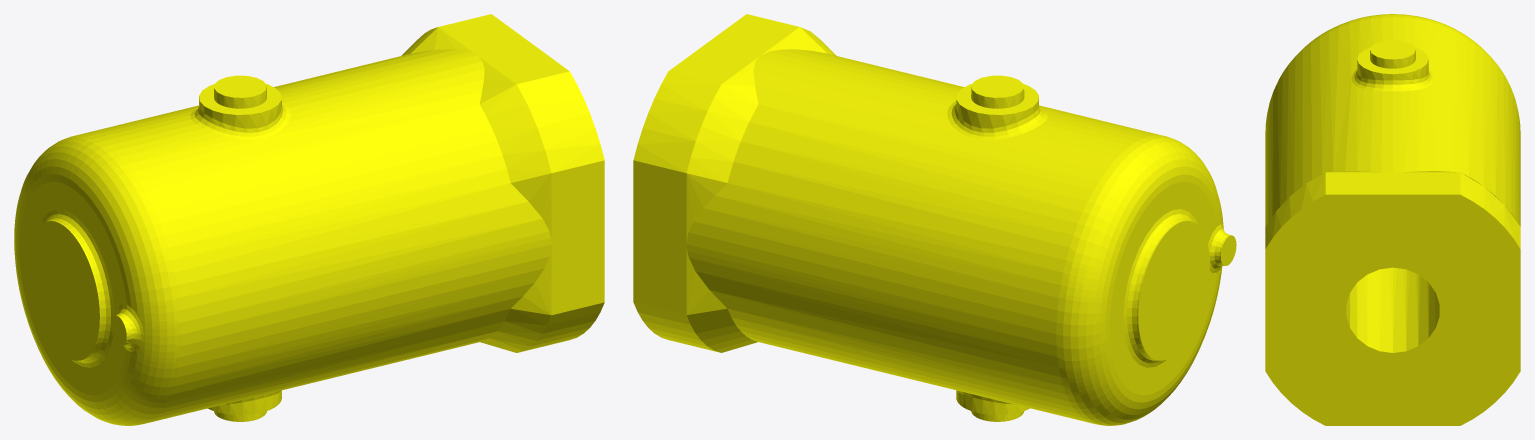
The picture shows the model from 3 angles, left to right: view 1: azimuth 30°, elevation 25°; view 2: azimuth 150°, elevation 25°; view 3: azimuth 270°, elevation 25°; orthographic projection. The views are drawn at different scales.
Parts seen in each view (by area): view 1: node; view 2: node; view 3: node.
Boxes of the visible parts, bbox=[...] form: node: bbox=[14, 14, 604, 425]; node: bbox=[633, 14, 1236, 425]; node: bbox=[1265, 14, 1520, 425].
Bounding box in the file's own units: 527 × 361 × 290.
